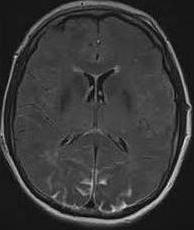Normal_Brain: (1, 1, 194, 229)
